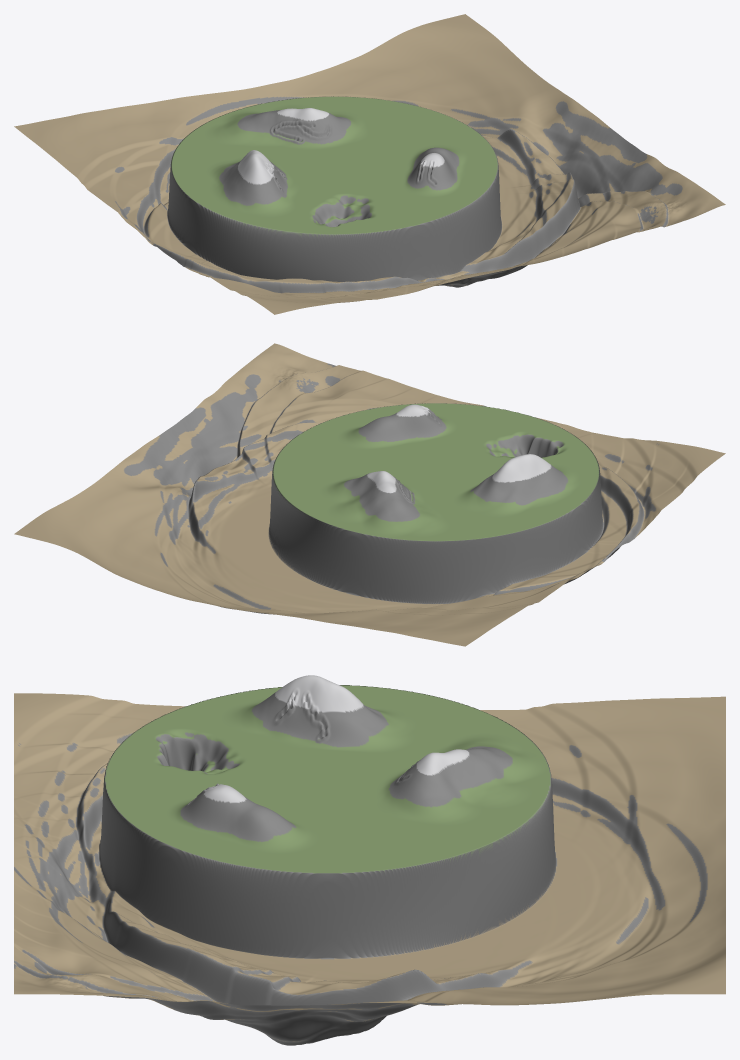
The model's file is manual.glb.
3 renders of one model, top to bottom at view 1: azimuth 30°, elevation 25°; view 2: azimuth 150°, elevation 25°; view 3: azimuth 270°, elevation 25°, orthographic. The views are drawn at different scales.
Visible parts, largest first — view 1: terrain; view 2: terrain; view 3: terrain.
Part boxes in pixels (box(x1,y1,x2,y2)): terrain: box(14, 14, 725, 314); terrain: box(14, 343, 725, 646); terrain: box(14, 675, 725, 1045).
Size of the model in its own units: 2048 by 524 by 2048.
